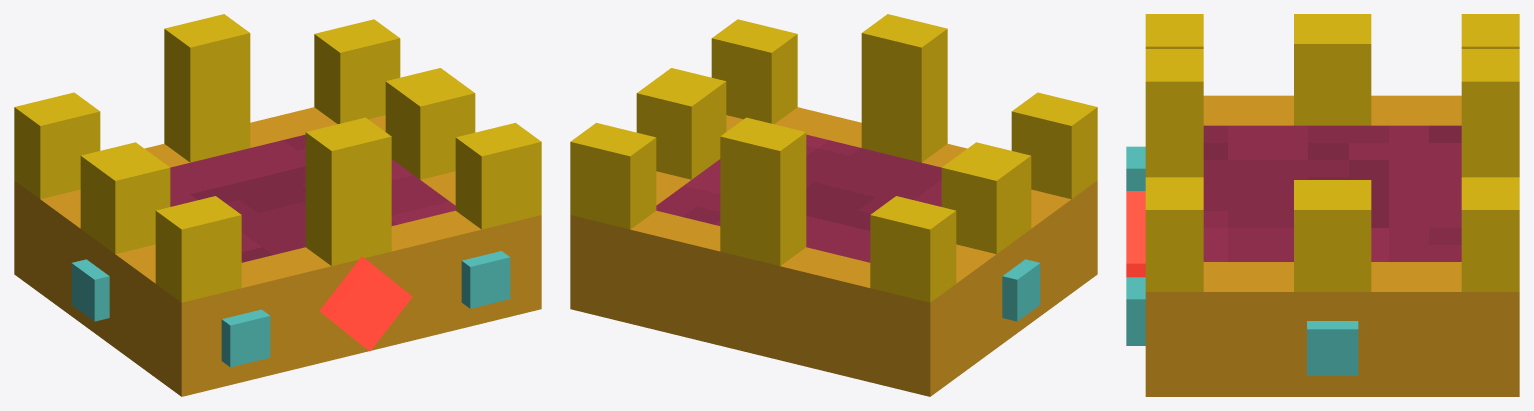
File: acc_crown.glb
3 views of the same model, side by side, from view 1: azimuth 30°, elevation 25°; view 2: azimuth 150°, elevation 25°; view 3: azimuth 270°, elevation 25° (orthographic). The views are drawn at different scales.
Parts seen in each view (by area): view 1: acc_crown; view 2: acc_crown; view 3: acc_crown.
Part boxes in pixels (left/top/right/bottom): acc_crown: left=14, top=14, right=541, bottom=396; acc_crown: left=570, top=14, right=1097, bottom=396; acc_crown: left=1126, top=14, right=1519, bottom=396.
Size of the model in its own units: 0.39 by 0.2 by 0.305.
5 materials, 1 textured.
